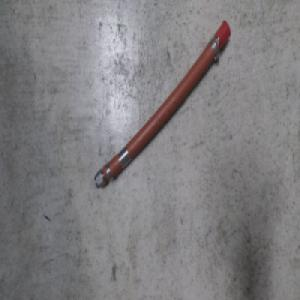Hose: (93, 16, 233, 189)
